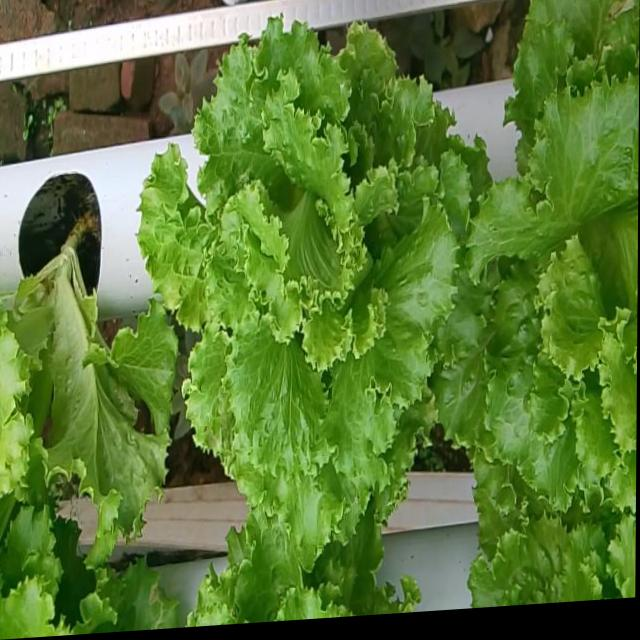Mature: (138, 2, 473, 538), (438, 54, 639, 501)
